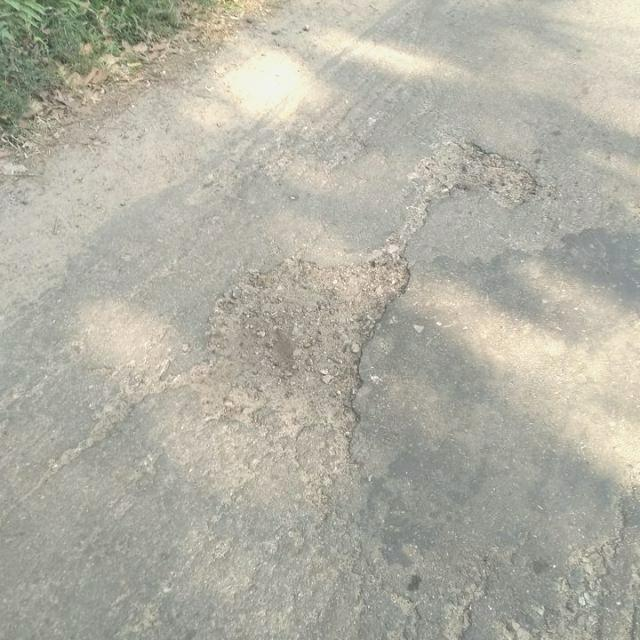Pothole: (192, 246, 415, 444), (416, 130, 543, 207)
